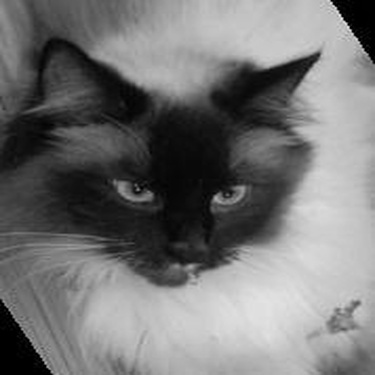cat: (3, 1, 371, 368)
